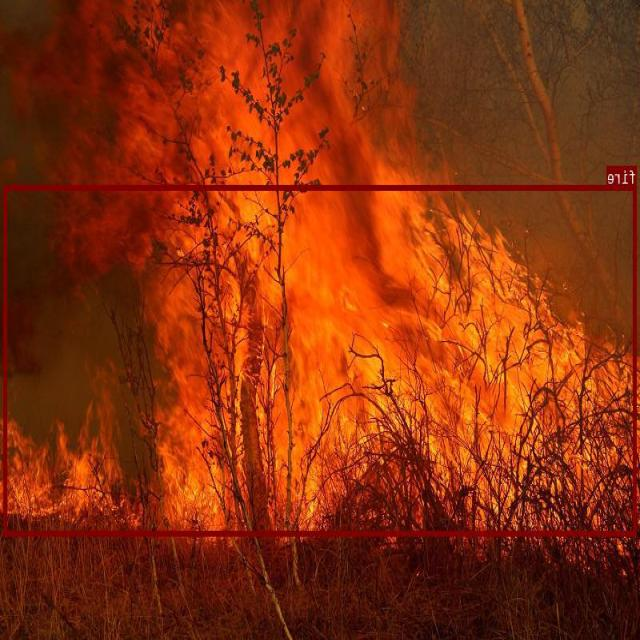fire: (4, 185, 637, 535)
